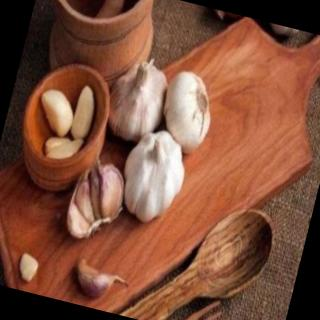Bawang Putih: (114, 125, 195, 231), (154, 67, 222, 158)
